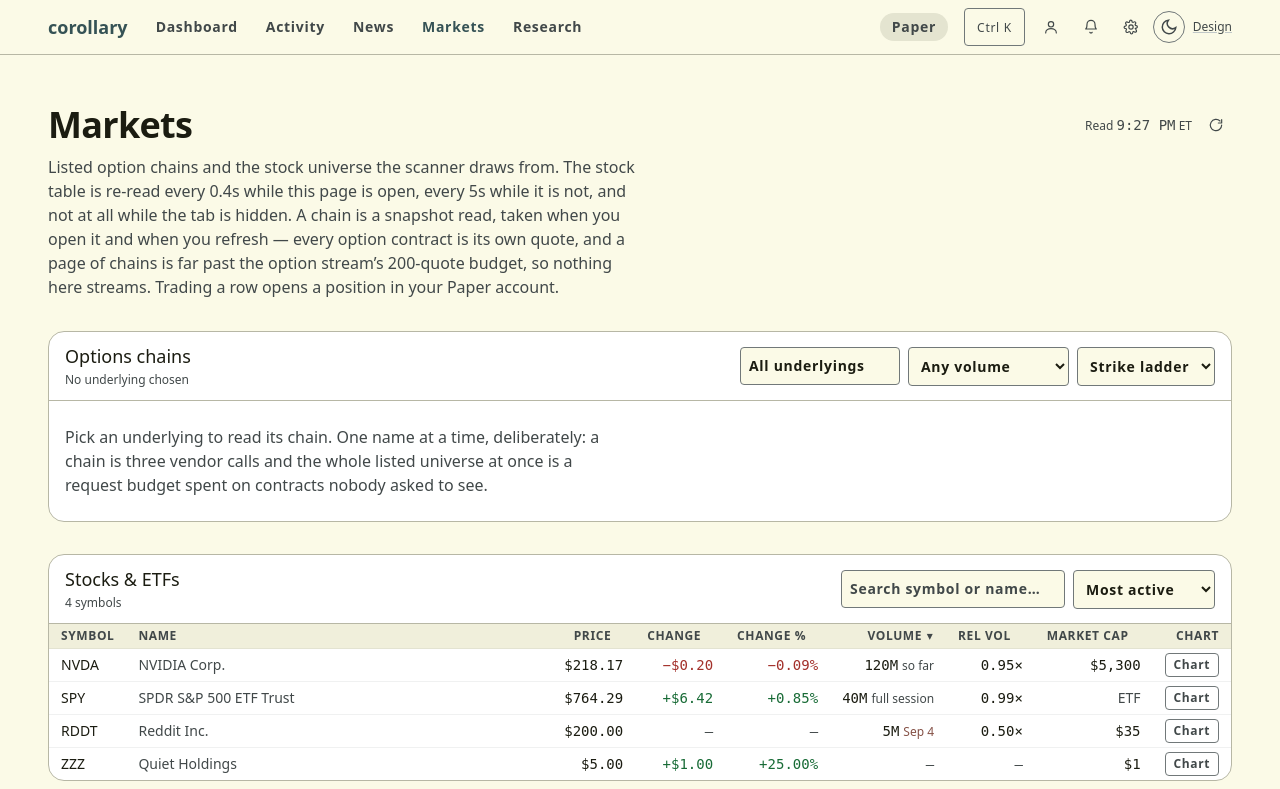
Test: the chain is fetched for one underlying at a time › fetches the chosen chain and renders its ladder
The width and height of the screenshot is (1280, 789).
Expected: the text "NVIDIA Corp." is shown, [138,655,225,674]
Type "NVDA" into the dropdown with placeholder "All underlyings". click: x=820, y=366
box: [740,347,900,385]
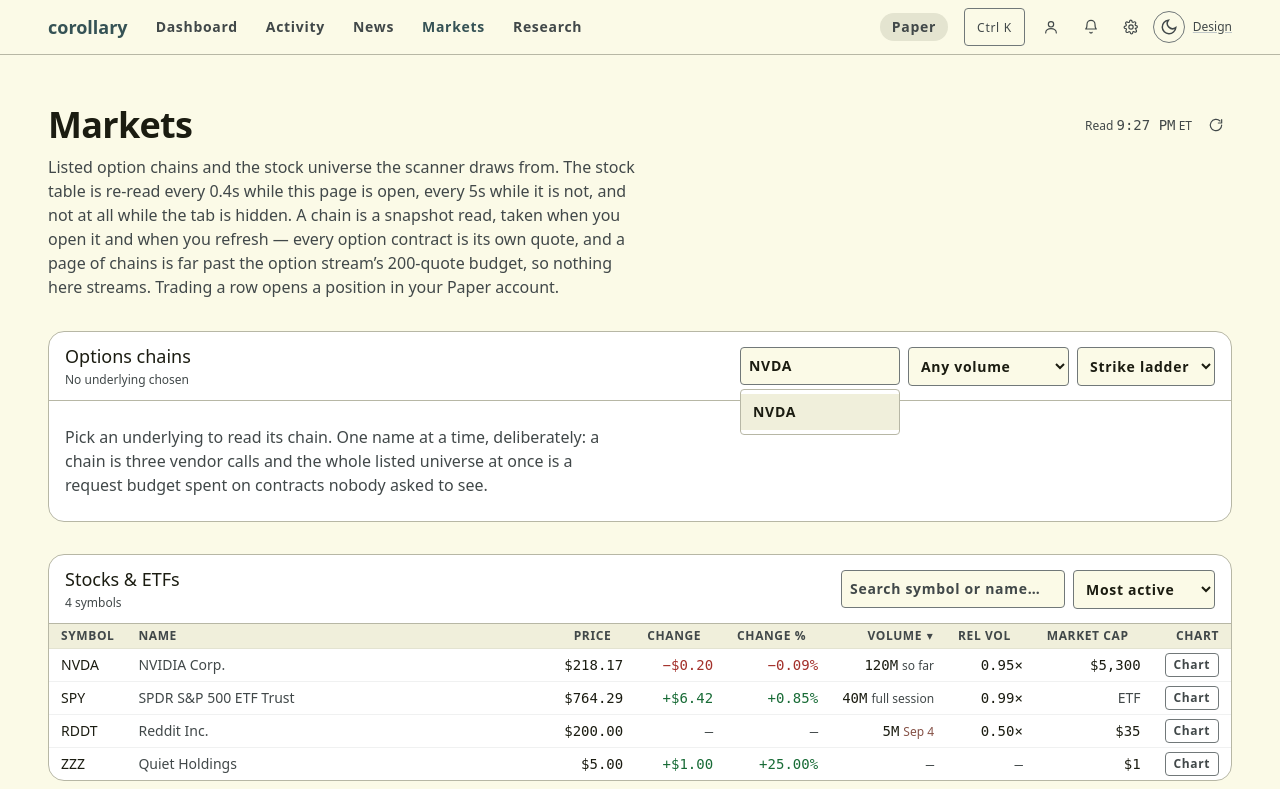
Press the mouse on the option "NVDA" at x=820, y=412, box [741,394,899,430]
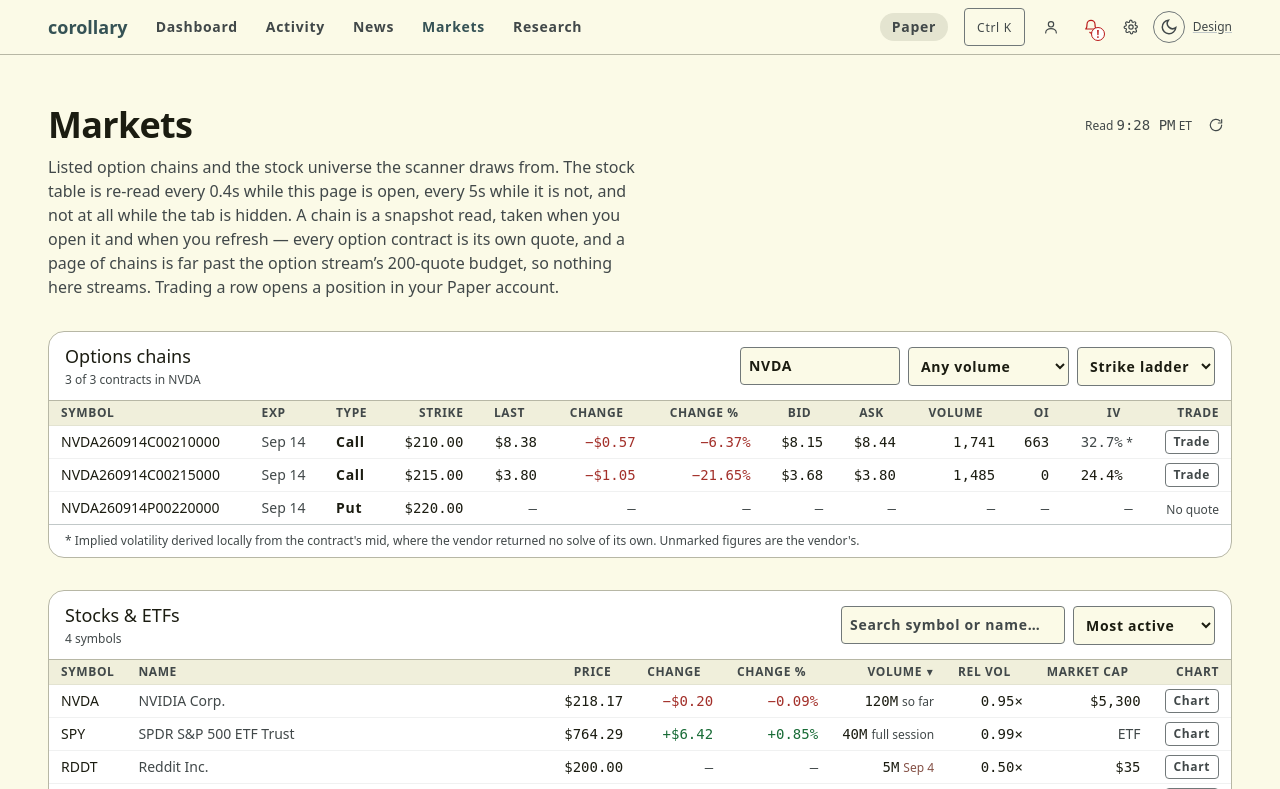
Expected: the text "NVDA260914C00210000" is shown, [49,426,250,458]
